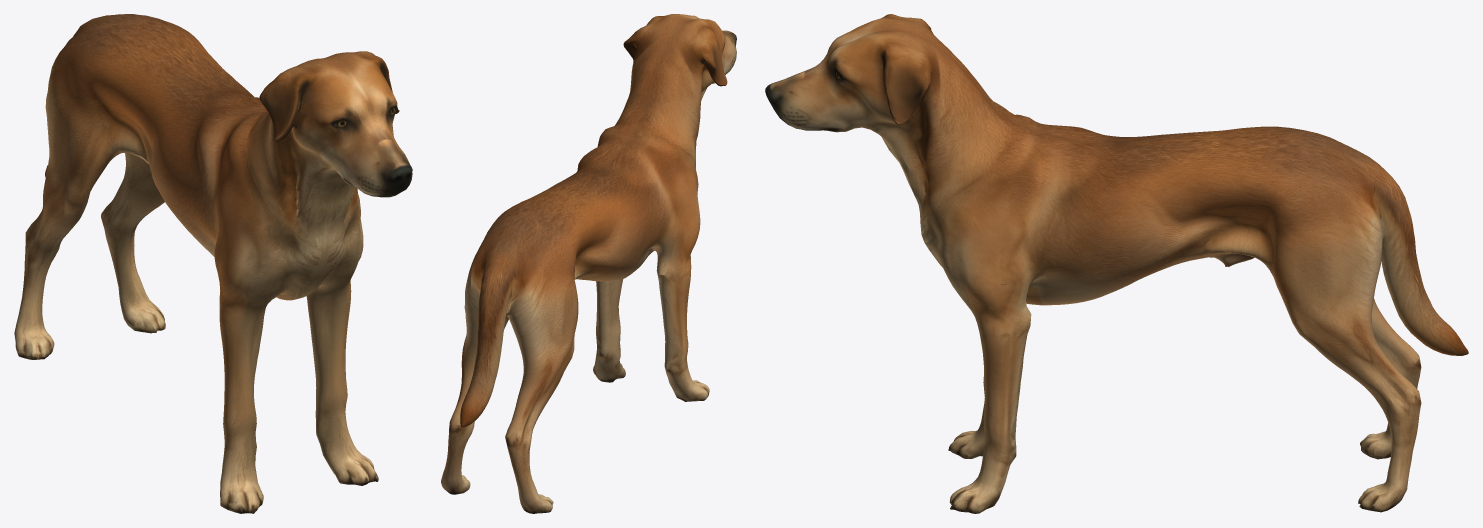
Rendered from hund_golden_original.glb.
3 views of the same model, side by side, from view 1: azimuth 30°, elevation 25°; view 2: azimuth 150°, elevation 25°; view 3: azimuth 270°, elevation 25° (orthographic). The views are drawn at different scales.
Parts seen in each view (by area): view 1: Mesh0; view 2: Mesh0; view 3: Mesh0.
Part boxes in pixels (left/top/right/bottom): Mesh0: left=14, top=14, right=412, bottom=513; Mesh0: left=441, top=14, right=736, bottom=513; Mesh0: left=765, top=14, right=1468, bottom=513.
Bounding box in the file's own units: 0.4615 × 1.34 × 1.89.
Materials: 1 (1 with a texture image).
